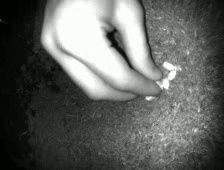corn: (161, 60, 177, 73), (153, 78, 166, 92), (166, 69, 180, 82), (160, 76, 171, 92), (143, 94, 158, 103), (172, 62, 184, 73)
